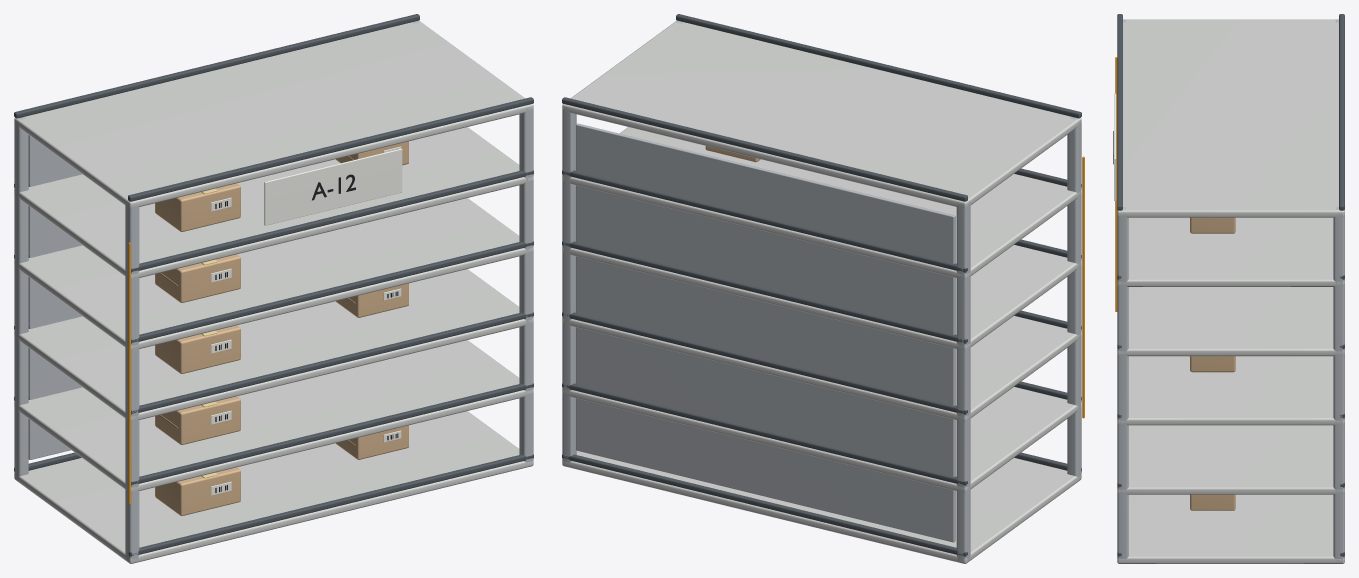
The model's file is shelf-large.glb.
3 views of the same model, side by side, from view 1: azimuth 30°, elevation 25°; view 2: azimuth 150°, elevation 25°; view 3: azimuth 270°, elevation 25° (orthographic). The views are drawn at different scales.
Visible parts, largest first — view 1: laminated shelf deck.005, laminated shelf deck.003, laminated shelf deck.001, laminated shelf deck, laminated shelf deck.002, laminated shelf deck.004, rear perforated backing, aisle label plate, rounded upright post.001, rounded upright post.002, rounded upright post, front safety rail.005 (+14 smaller); view 2: rear perforated backing, laminated shelf deck.005, laminated shelf deck.004, laminated shelf deck, laminated shelf deck.001, laminated shelf deck.003, laminated shelf deck.002, rounded upright post.001, rounded upright post, rounded upright post.003, rear safety rail.005, front safety rail.005 (+6 smaller); view 3: laminated shelf deck.005, laminated shelf deck.003, laminated shelf deck.001, laminated shelf deck, laminated shelf deck.002, laminated shelf deck.004, rounded upright post.003, rounded upright post.002, front safety rail.005, rear safety rail.005, shelf parcel 0b carton, shelf parcel 4b carton (+3 smaller).
Boxes of the visible parts, left/top/right/bottom form: laminated shelf deck.005: left=14, top=20, right=533, bottom=208; laminated shelf deck.003: left=14, top=198, right=533, bottom=350; laminated shelf deck.001: left=14, top=340, right=533, bottom=492; laminated shelf deck: left=14, top=411, right=533, bottom=563; laminated shelf deck.002: left=14, top=269, right=533, bottom=421; laminated shelf deck.004: left=14, top=127, right=533, bottom=279; rear perforated backing: left=28, top=135, right=82, bottom=459; aisle label plate: left=264, top=148, right=402, bottom=225; rounded upright post.001: left=14, top=117, right=28, bottom=480; rounded upright post.002: left=519, top=107, right=533, bottom=464; rounded upright post: left=125, top=201, right=139, bottom=561; front safety rail.005: left=128, top=97, right=533, bottom=201; rear perforated backing: left=576, top=123, right=955, bottom=542; laminated shelf deck.005: left=562, top=20, right=1081, bottom=208; laminated shelf deck.004: left=562, top=127, right=1081, bottom=279; laminated shelf deck: left=562, top=451, right=1081, bottom=563; laminated shelf deck.001: left=562, top=387, right=1081, bottom=492; laminated shelf deck.003: left=562, top=245, right=1081, bottom=350; laminated shelf deck.002: left=562, top=316, right=1081, bottom=421; rounded upright post.001: left=956, top=201, right=970, bottom=561; rounded upright post: left=1067, top=117, right=1081, bottom=480; rounded upright post.003: left=562, top=107, right=576, bottom=465; rear safety rail.005: left=562, top=97, right=967, bottom=201; front safety rail.005: left=676, top=14, right=1081, bottom=118; laminated shelf deck.005: left=1117, top=19, right=1344, bottom=217; laminated shelf deck.003: left=1117, top=287, right=1344, bottom=356; laminated shelf deck.001: left=1117, top=425, right=1344, bottom=494; laminated shelf deck: left=1117, top=494, right=1344, bottom=563; laminated shelf deck.002: left=1117, top=356, right=1344, bottom=425; laminated shelf deck.004: left=1117, top=217, right=1344, bottom=286; rounded upright post.003: left=1333, top=207, right=1344, bottom=562; rounded upright post.002: left=1117, top=207, right=1128, bottom=562; front safety rail.005: left=1117, top=14, right=1122, bottom=210; rear safety rail.005: left=1339, top=14, right=1344, bottom=210; shelf parcel 0b carton: left=1190, top=494, right=1235, bottom=510; shelf parcel 4b carton: left=1190, top=217, right=1235, bottom=233.
Size of the model in its own units: 2.81 by 2.44 by 1.43.
